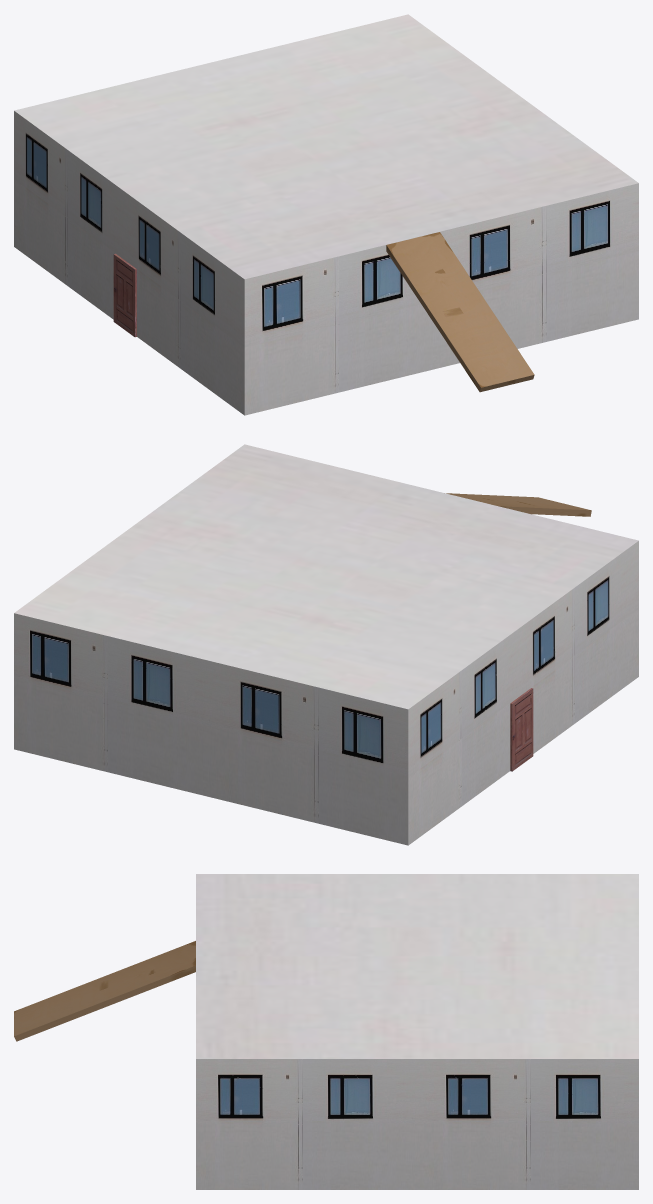
File: house.glb
3 views of the same model, one above another, from view 1: azimuth 30°, elevation 25°; view 2: azimuth 150°, elevation 25°; view 3: azimuth 270°, elevation 25° (orthographic). The views are drawn at different scales.
Parts seen in each view (by area): view 1: House, plywood, Door; view 2: House, Door, plywood; view 3: House, plywood.
Boxes of the visible parts, bbox=[...] form: House: bbox=[14, 14, 638, 415]; plywood: bbox=[386, 232, 534, 392]; Door: bbox=[113, 253, 136, 337]; House: bbox=[14, 444, 638, 845]; Door: bbox=[510, 688, 533, 771]; plywood: bbox=[446, 493, 591, 516]; House: bbox=[196, 874, 638, 1189]; plywood: bbox=[14, 941, 195, 1041].
Bounding box in the file's own units: 15.14 × 4.97 × 21.52.
3 materials, 3 textured.
